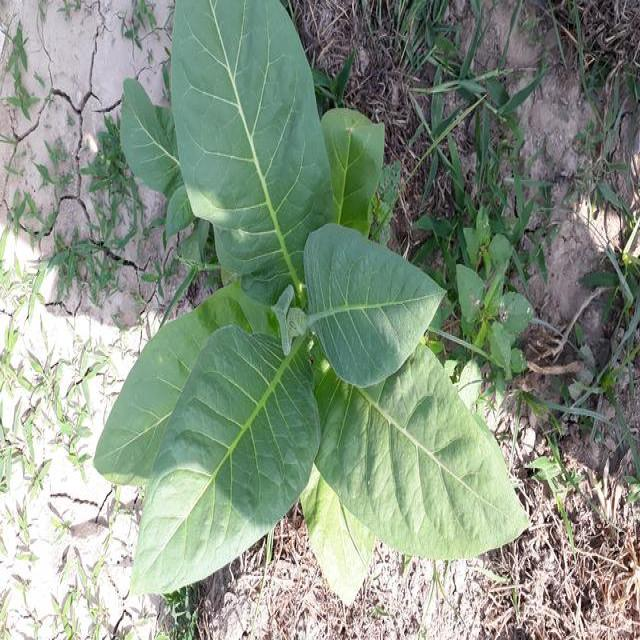crop: (93, 0, 530, 594)
